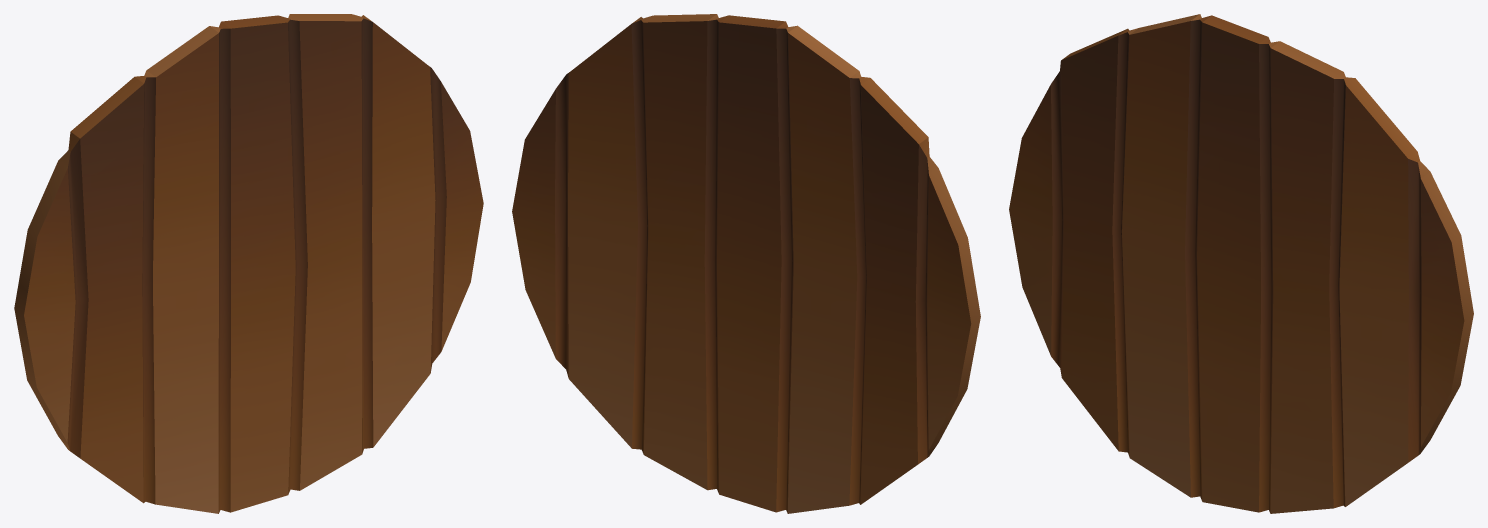
Rendered from Shield1h_01.fbx.
The picture shows the model from 3 angles, left to right: view 1: azimuth 30°, elevation 25°; view 2: azimuth 150°, elevation 25°; view 3: azimuth 330°, elevation 25°; orthographic projection.
Parts seen in each view (by area): view 1: Shield1h_01; view 2: Shield1h_01; view 3: Shield1h_01.
Boxes of the visible parts, <box> form: Shield1h_01: <box>14,14,483,513</box>; Shield1h_01: <box>512,14,980,513</box>; Shield1h_01: <box>1009,14,1473,513</box>.
Size of the model in its own units: 45.74 by 46.04 by 3.22.
